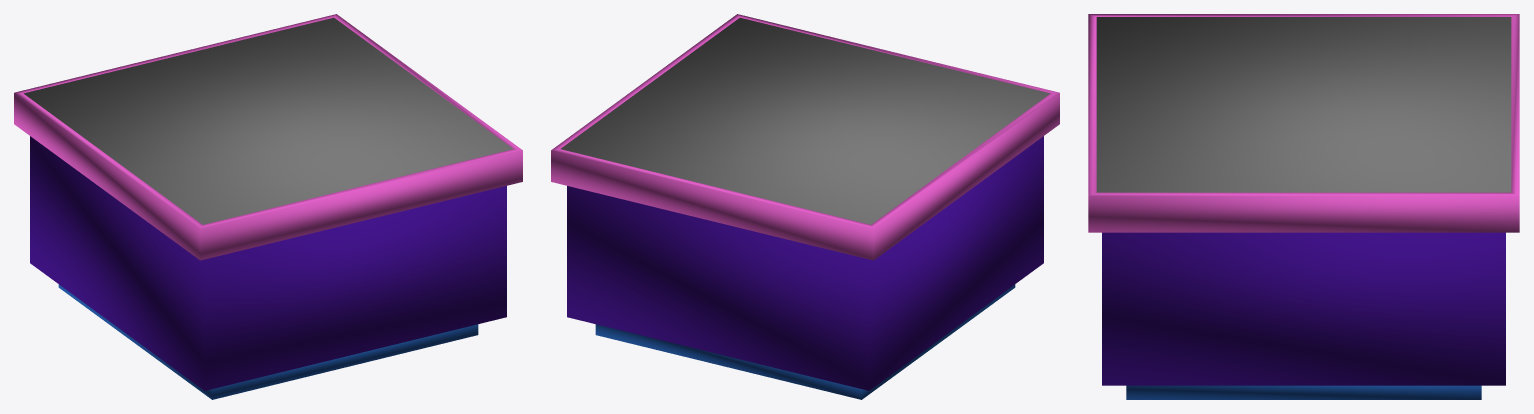
Rendered from стол.obj.
The picture shows the model from 3 angles, left to right: view 1: azimuth 30°, elevation 25°; view 2: azimuth 150°, elevation 25°; view 3: azimuth 270°, elevation 25°; orthographic projection. The views are drawn at different scales.
Parts seen in each view (by area): view 1: housing, epoxy_resin, top, basis; view 2: housing, epoxy_resin, top, basis; view 3: epoxy_resin, housing, top, basis.
Part boxes in pixels (bbox=[...]): housing: bbox=[30, 136, 506, 390]; epoxy_resin: bbox=[23, 17, 512, 224]; top: bbox=[14, 14, 522, 260]; basis: bbox=[58, 284, 478, 399]; housing: bbox=[567, 136, 1043, 390]; epoxy_resin: bbox=[561, 17, 1050, 224]; top: bbox=[551, 14, 1059, 260]; basis: bbox=[595, 284, 1015, 399]; epoxy_resin: bbox=[1096, 17, 1511, 192]; housing: bbox=[1102, 232, 1505, 385]; top: bbox=[1088, 14, 1519, 232]; basis: bbox=[1126, 385, 1481, 399].
Size of the model in its own units: 800 by 451 by 800.
